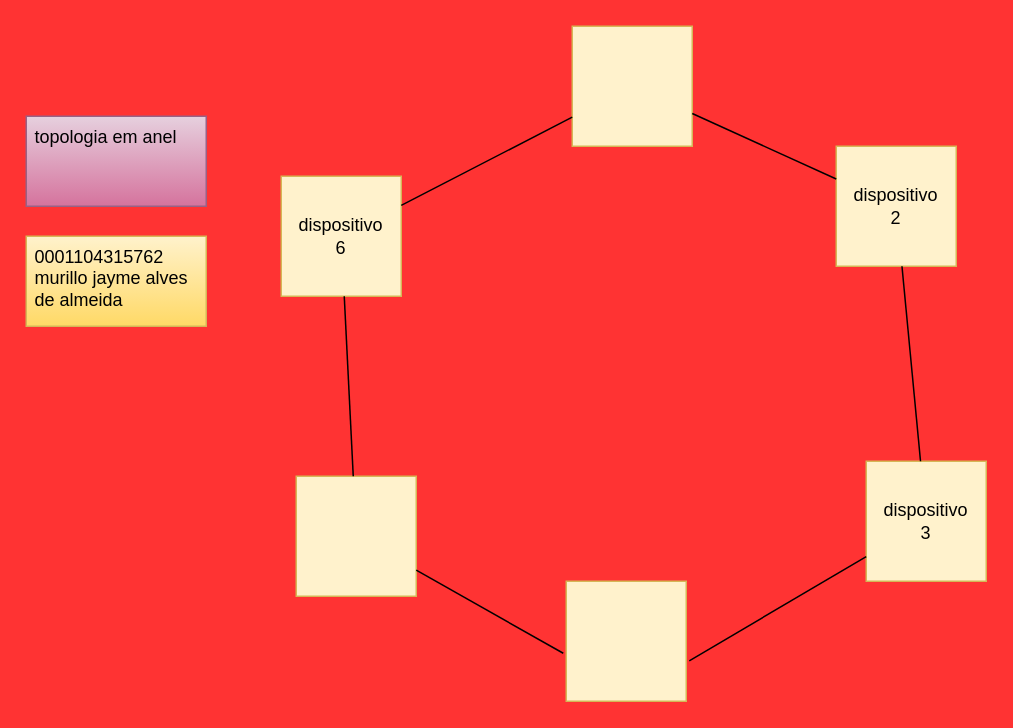
This 1013x728 diagram has some shape labels left out. The centre of each missing label's shape, as x and y in pixels:
"dispositivo 1" goes at pixel 631 85.
"dispositivo 4" goes at pixel 625 640.
"dispositivo 5" goes at pixel 355 535.
